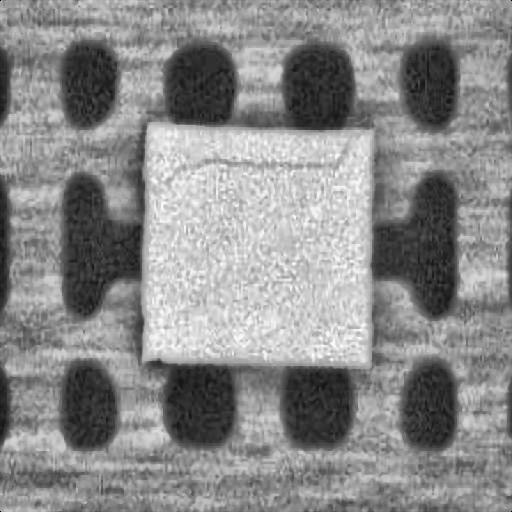DIE_CRACK: (165, 130, 358, 180)
